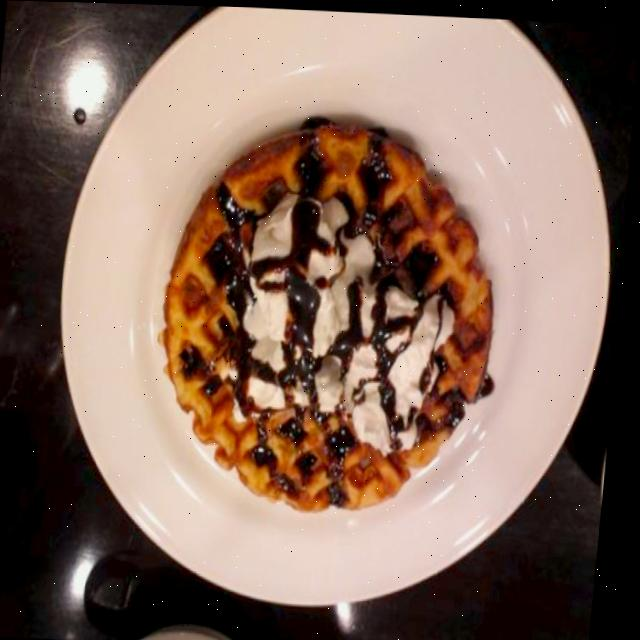炸货点心: (29, 2, 640, 637)
蛋糕甜品: (29, 2, 640, 637)
